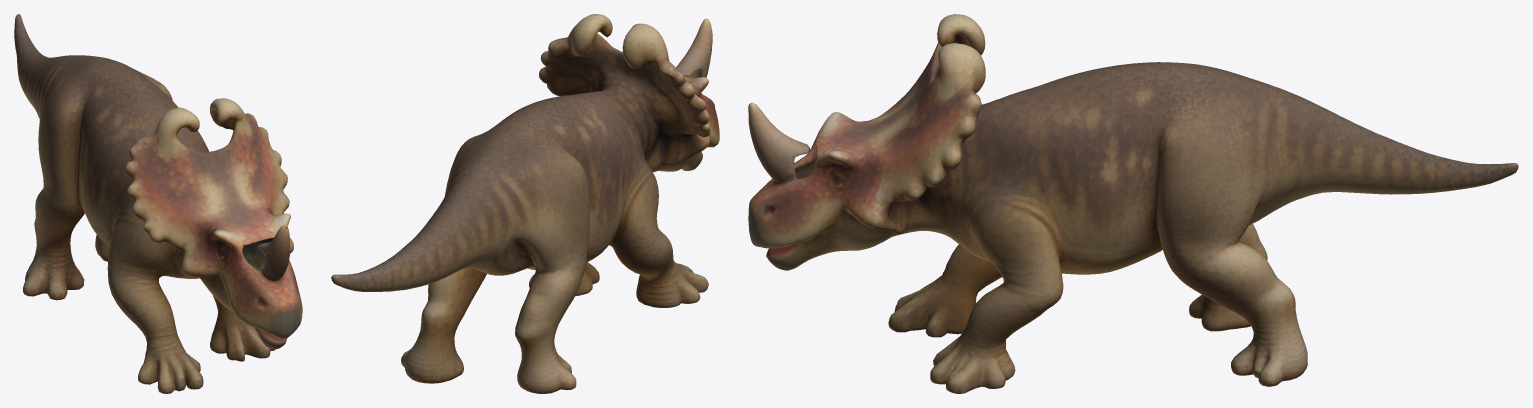
The picture shows the model from 3 angles, left to right: view 1: azimuth 30°, elevation 25°; view 2: azimuth 150°, elevation 25°; view 3: azimuth 270°, elevation 25°; orthographic projection. The views are drawn at different scales.
Visible parts, largest first — view 1: world; view 2: world; view 3: world.
Boxes of the visible parts, x1,y1,x2,y2 form: world: [14, 14, 302, 393]; world: [331, 14, 719, 393]; world: [748, 14, 1518, 393].
Bounding box in the file's own units: 1.6 × 2.52 × 5.5.
Materials: 1 (1 with a texture image).
